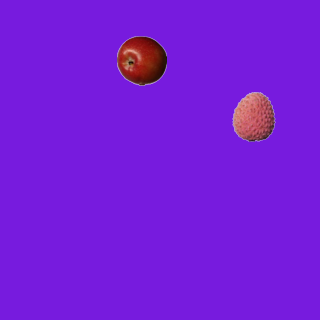Apple Braeburn: (116, 35, 166, 85)
Lychee: (228, 91, 278, 141)
